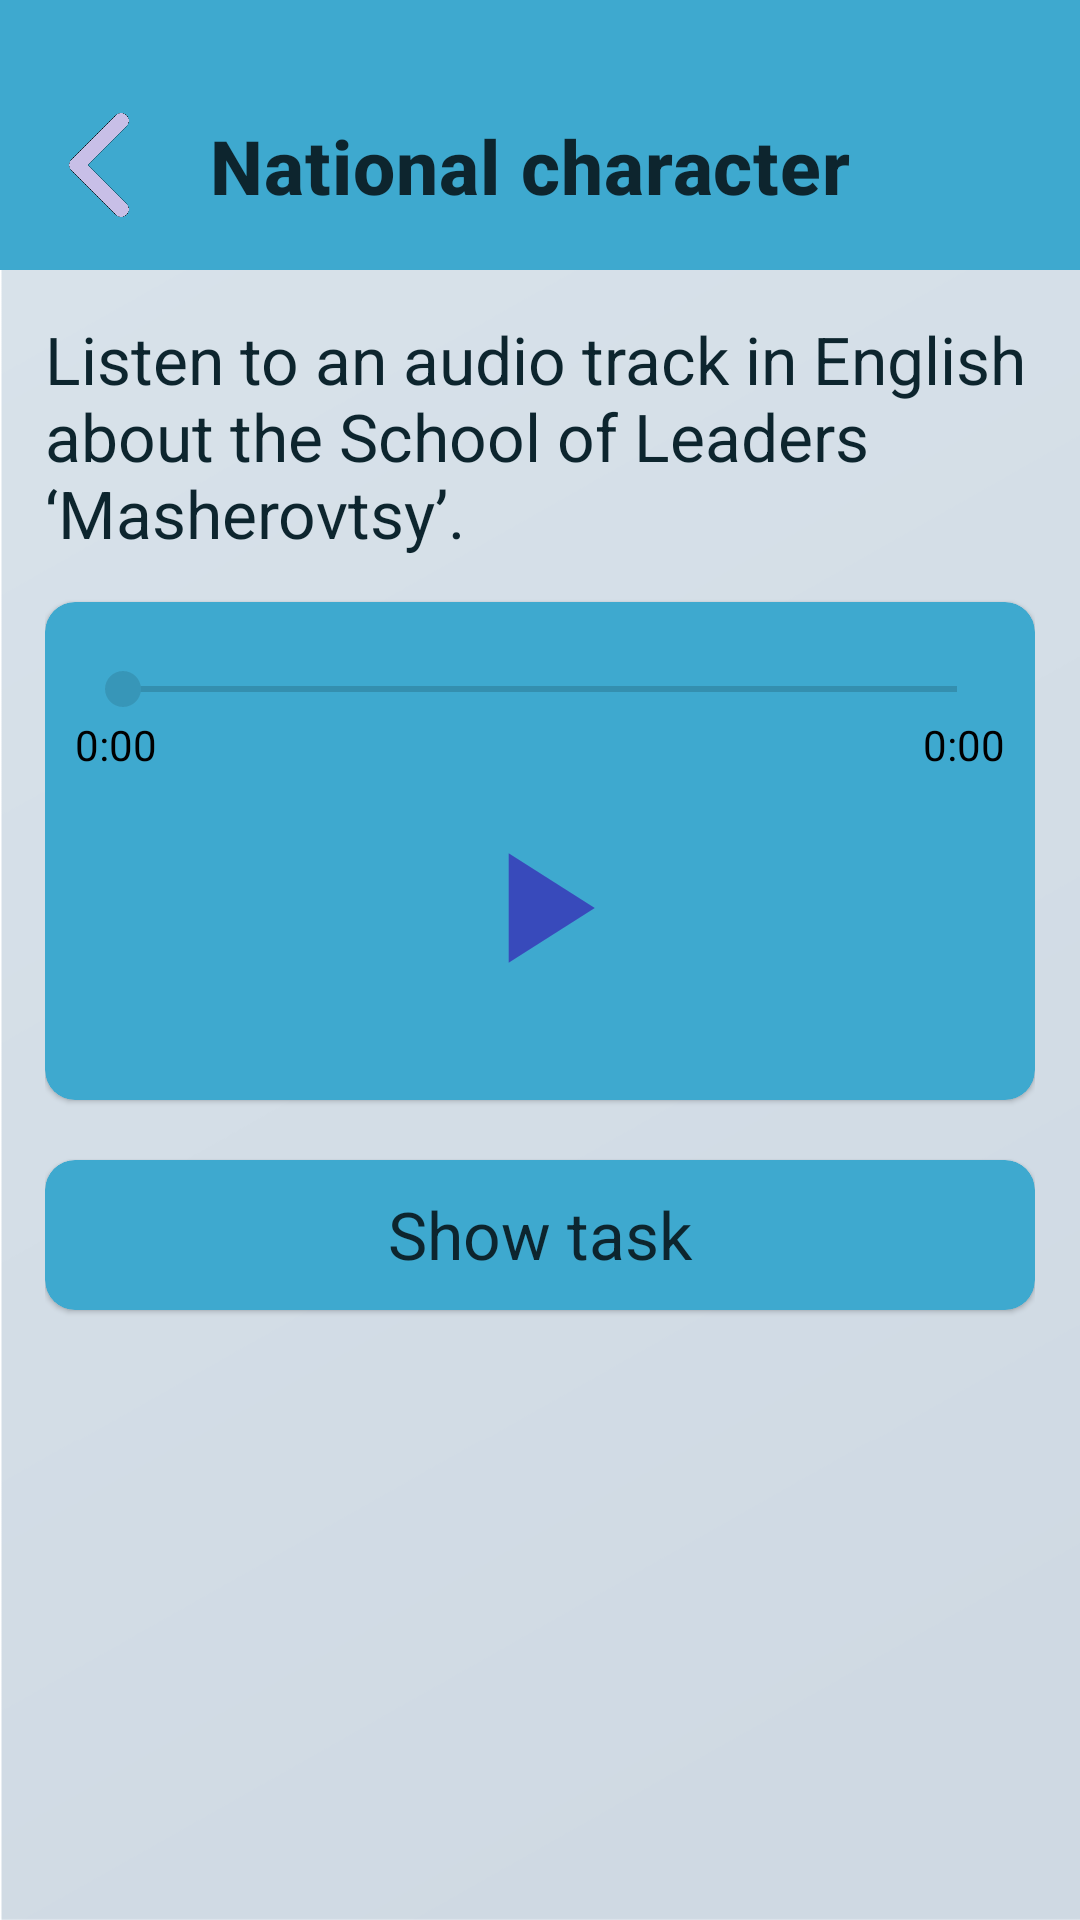

Icons on this 1080px×1920px Android screen, each with its box as {"x1": x1, "y1": y1, "x2": x2, "y2": y2}:
back: {"x1": 69, "y1": 113, "x2": 129, "y2": 217}
Play/Pause: {"x1": 508, "y1": 854, "x2": 594, "y2": 962}
